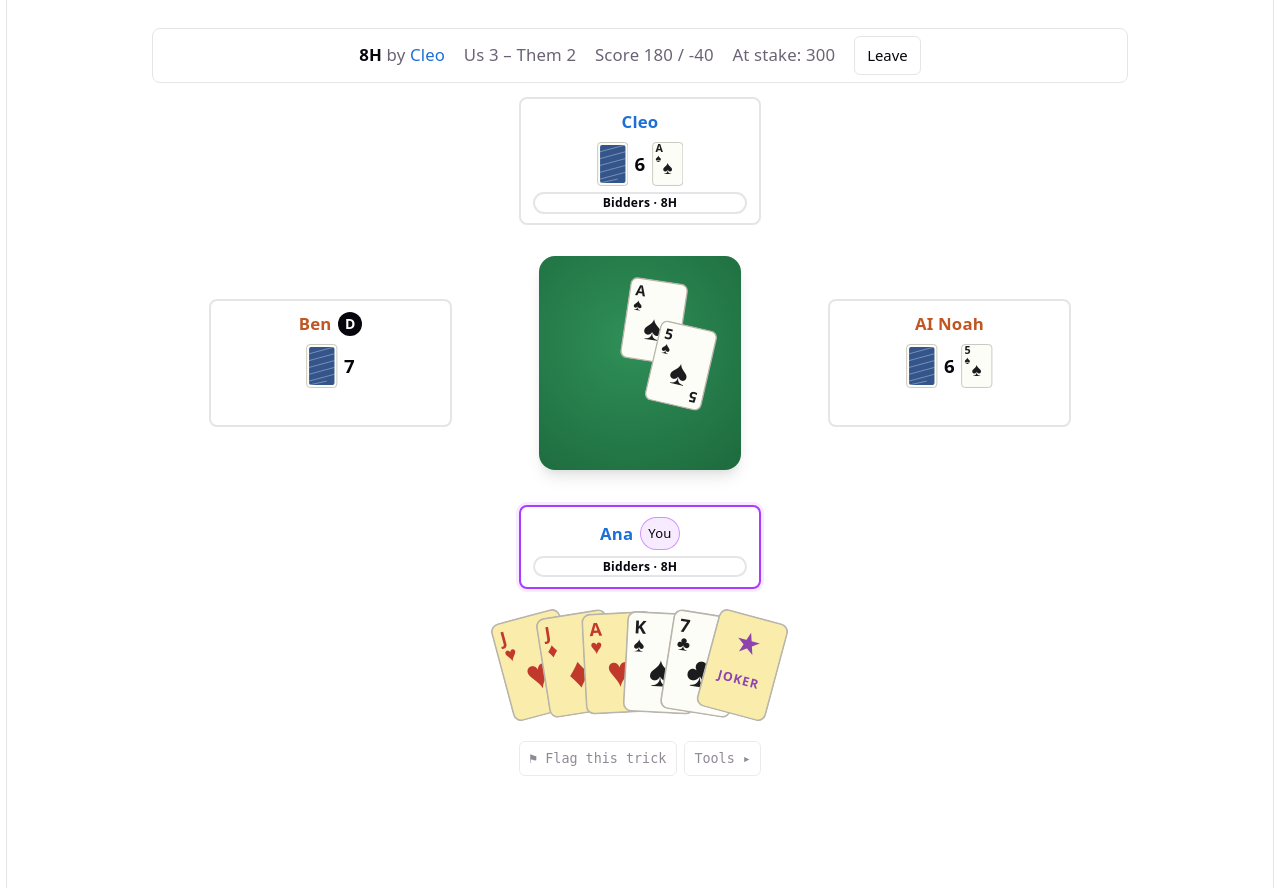
it: Table › flags the trick on screen from the debug panel below the hand (fh-q2m)
Click the button with test id "debug-toggle" at (723, 759), box [684,741,761,776]
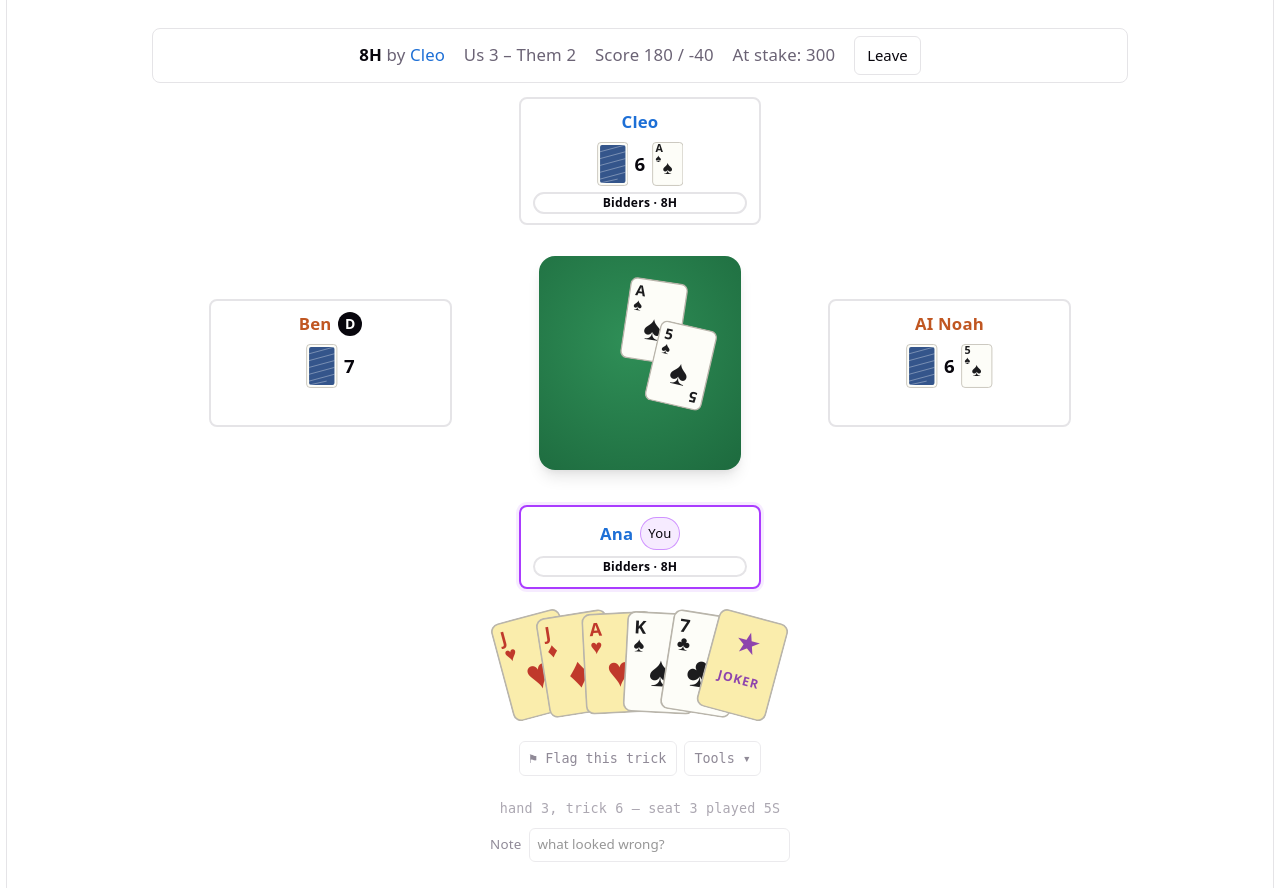
Type "bot ducked its ace" into the field with test id "flag-note" at (660, 845), box [529,828,790,862]
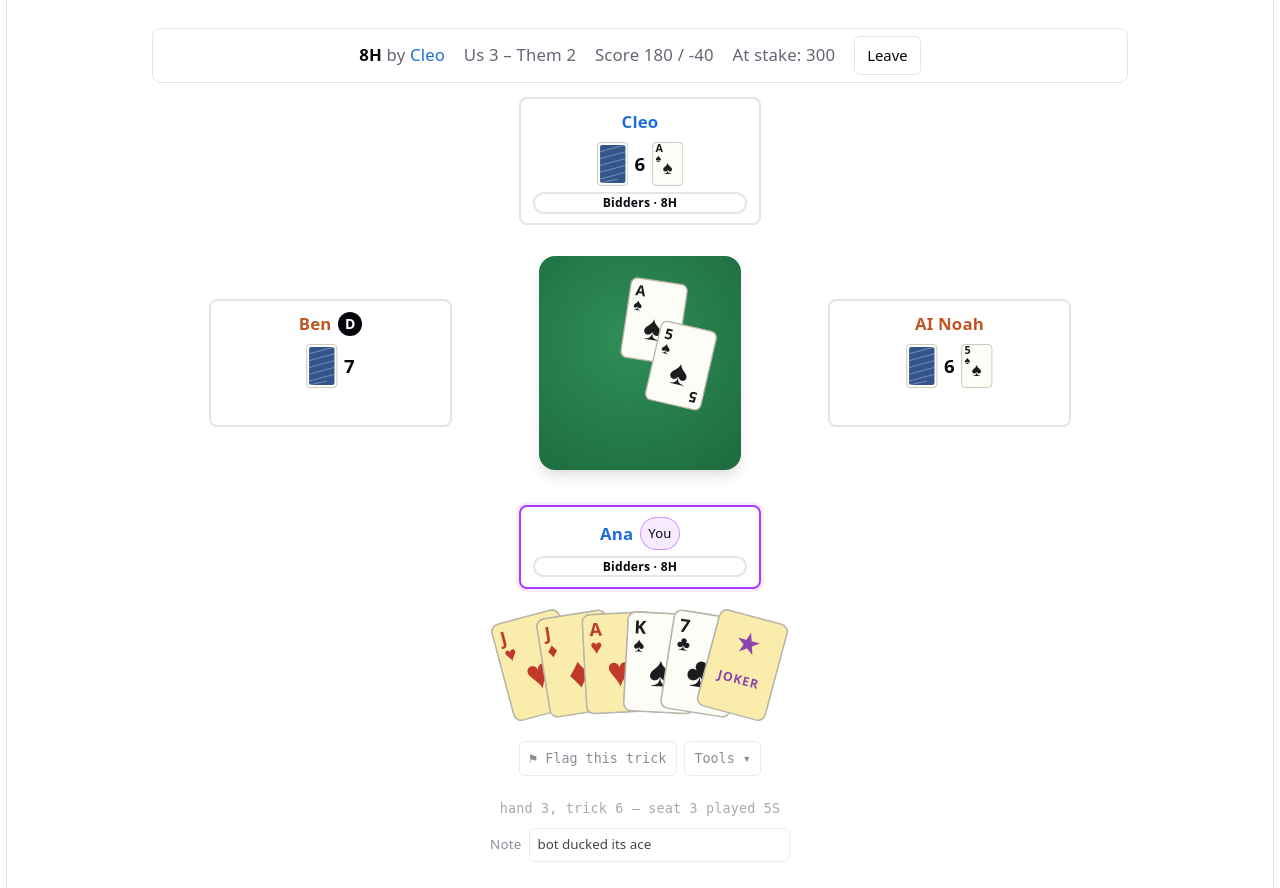
Click the button with test id "flag-trick" at (598, 759), box [519,741,677,776]
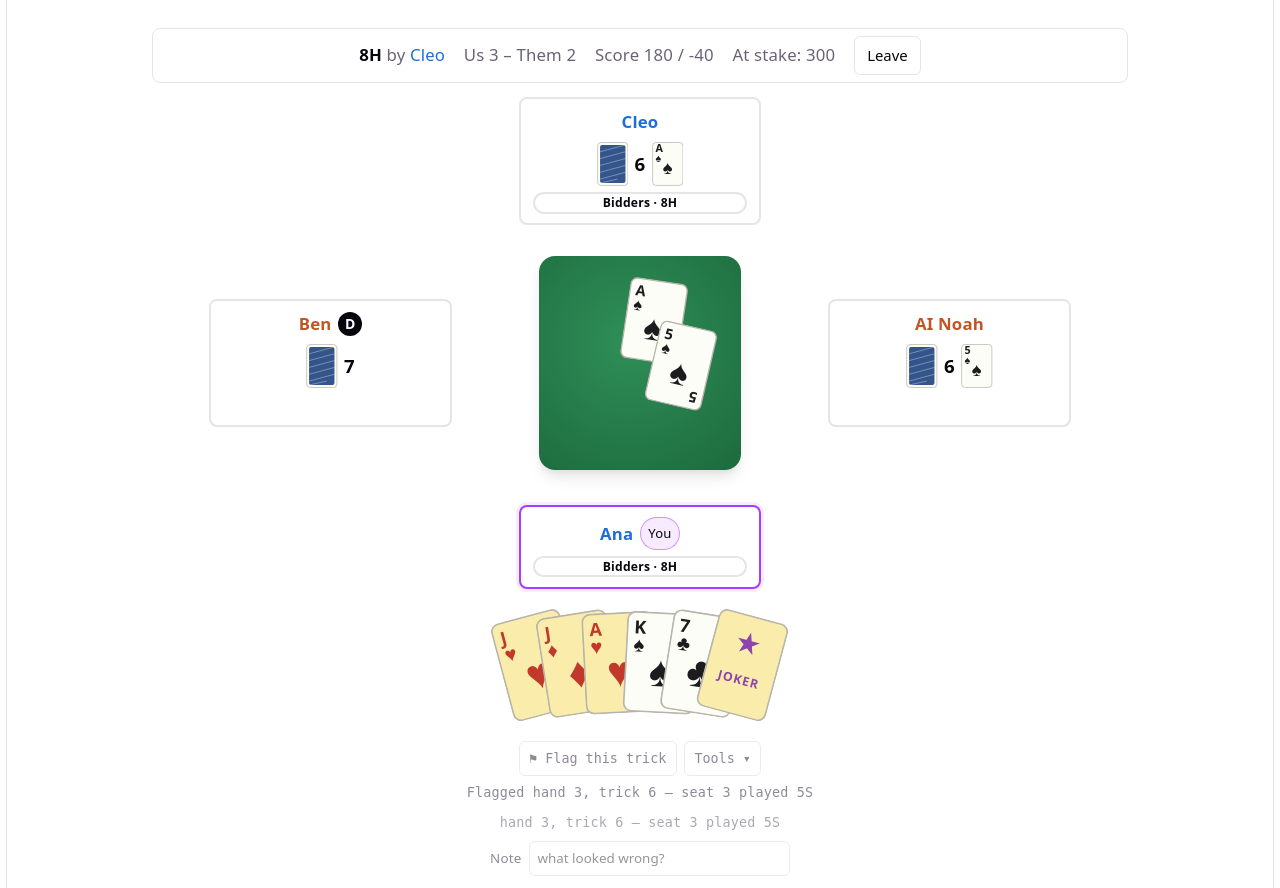
Expected: the message with test id "flag-status" reads "Flagged hand 3, trick 6 — seat 3 played 5S", [467,785,813,800]
